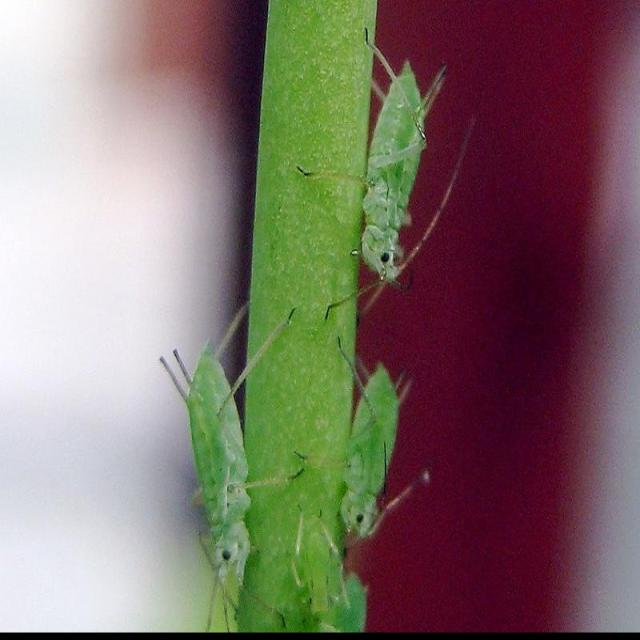Aphids: (287, 25, 479, 344), (157, 328, 292, 605), (296, 345, 434, 572)
